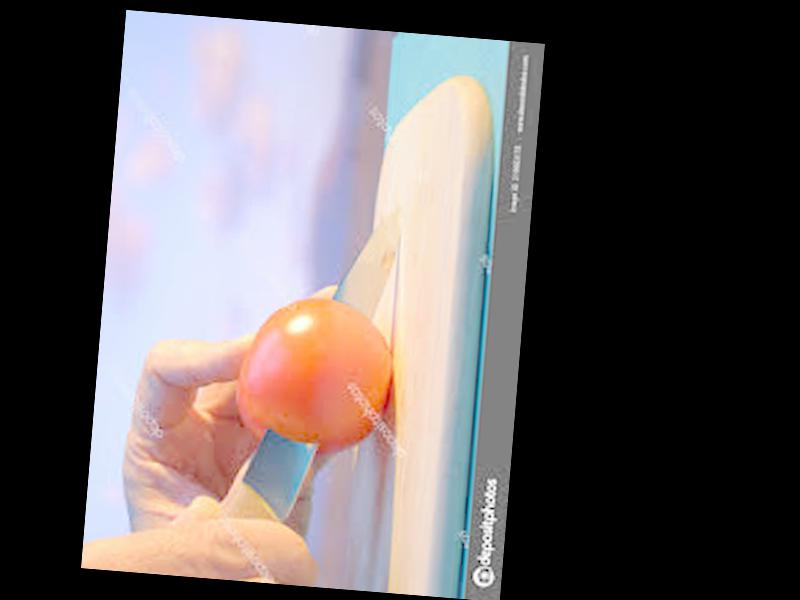Tomato: (234, 290, 400, 460)
